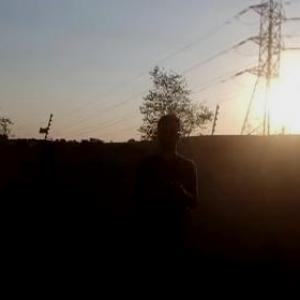follow: (128, 108, 202, 299)
